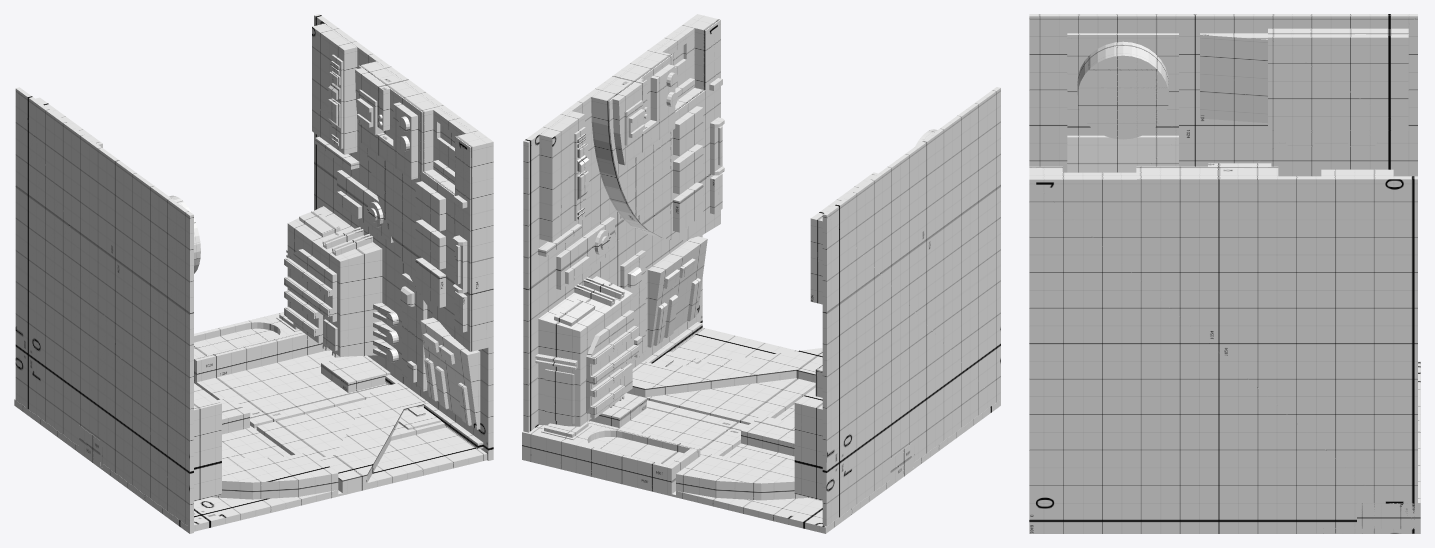
Rendered from JeonLevel5.fbx.
3 renders of one model, left to right at view 1: azimuth 30°, elevation 25°; view 2: azimuth 150°, elevation 25°; view 3: azimuth 270°, elevation 25°, orthographic. The views are drawn at different scales.
Visible parts, largest first — view 1: 5; view 2: 5; view 3: 5.
Part boxes in pixels (left/top/right/bottom): 5: left=14, top=14, right=493, bottom=533; 5: left=522, top=14, right=1000, bottom=533; 5: left=1029, top=14, right=1420, bottom=533.
Bounding box in the file's own units: 7500 × 7500 × 7500.
